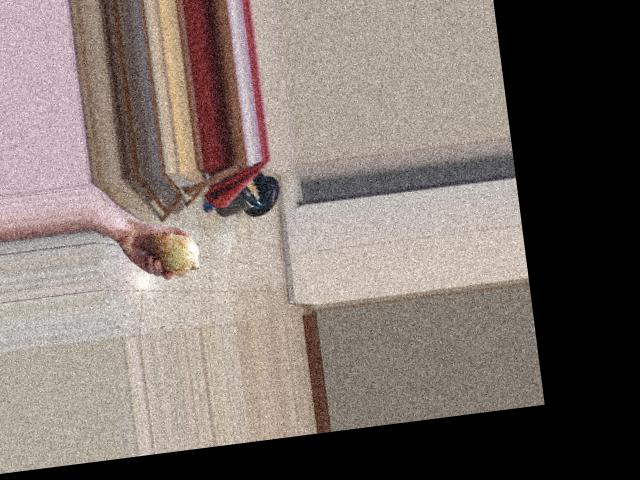onion: (151, 226, 202, 276)
